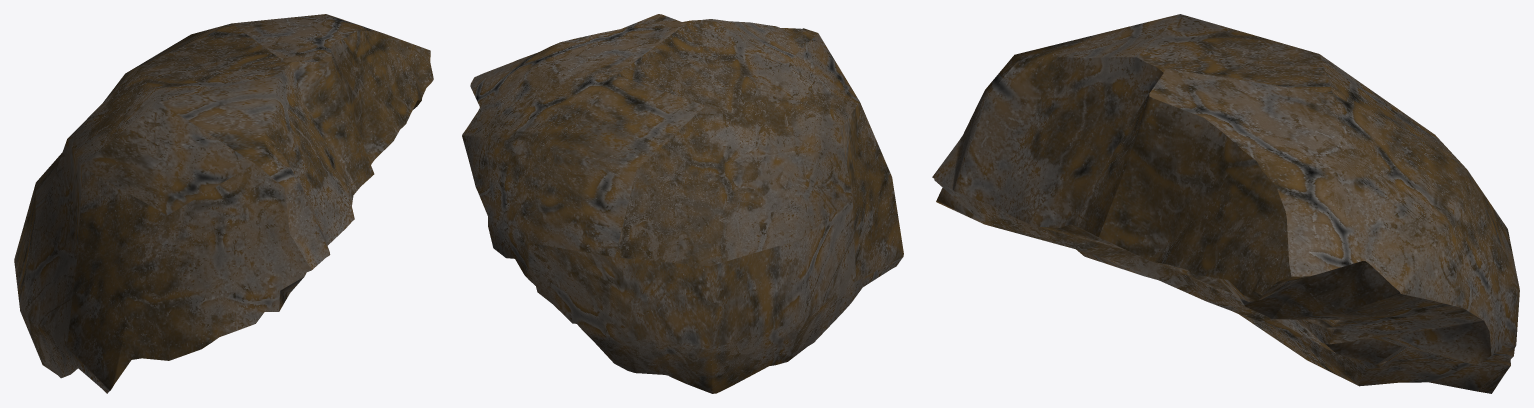
Rendered from RockShard5.fbx.
3 views of the same model, side by side, from view 1: azimuth 30°, elevation 25°; view 2: azimuth 150°, elevation 25°; view 3: azimuth 270°, elevation 25° (orthographic). The views are drawn at different scales.
Visible parts, largest first — view 1: RockShard5; view 2: RockShard5; view 3: RockShard5.
Boxes of the visible parts, <box> form: RockShard5: <box>14,14,433,393</box>; RockShard5: <box>462,14,903,393</box>; RockShard5: <box>932,14,1519,393</box>.
Size of the model in its own units: 87.9 by 65.99 by 88.59.
